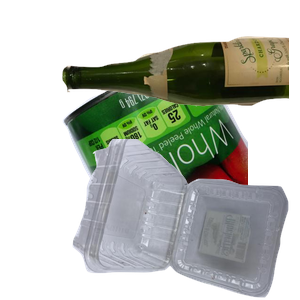glass: (60, 34, 300, 133)
metal: (60, 48, 300, 228)
plastic: (70, 139, 300, 300)
trash: (99, 155, 268, 300)
